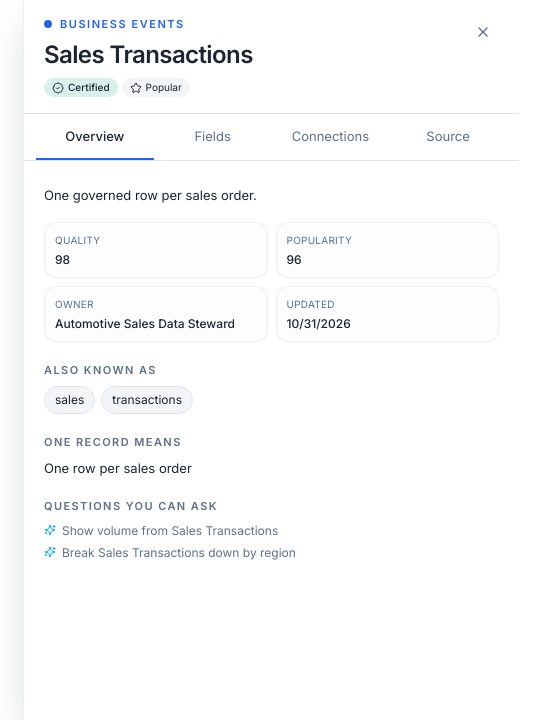
NodeDrawer › shows graph reach and lineage without another request
The image size is (534, 720).
Click the tab "Connections".
click(330, 137)  # box left=272, top=114, right=389, bottom=160
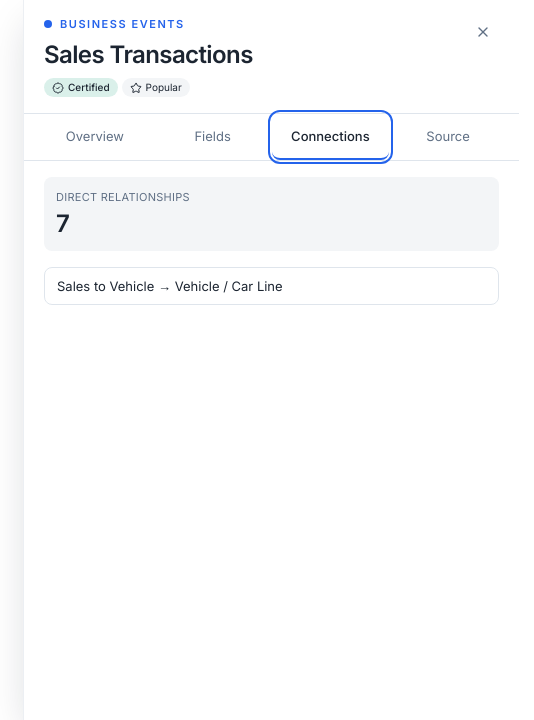
Expected: the text "7" is shown, left=56, top=209, right=70, bottom=238
Expected: the list item "Sales to Vehicle → Vehicle / Car Line" is shown, left=44, top=267, right=499, bottom=305
Click the tab "Source".
click(448, 137)  # box left=389, top=114, right=507, bottom=160
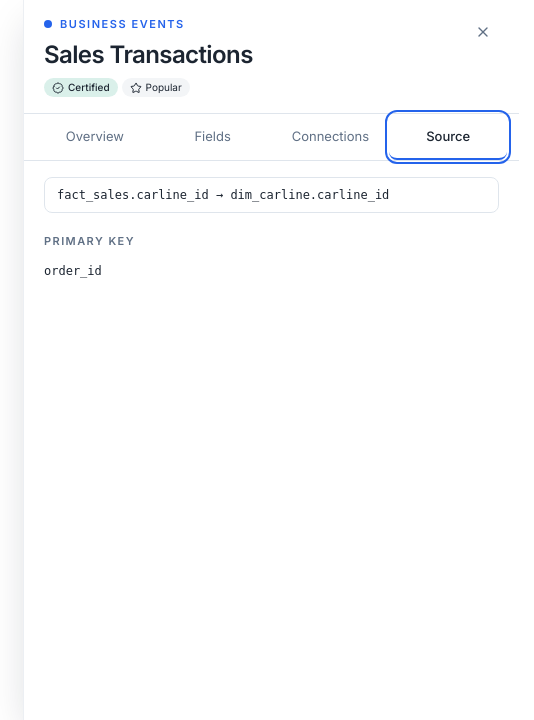
Expected: the list item "fact_sales.carline_id → dim_carline.carline_id" is shown, left=44, top=177, right=499, bottom=213
